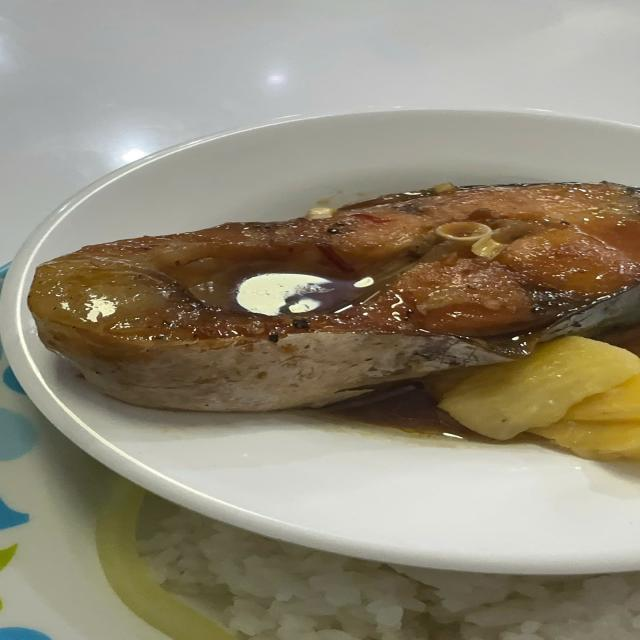ca kho: (28, 183, 640, 411)
